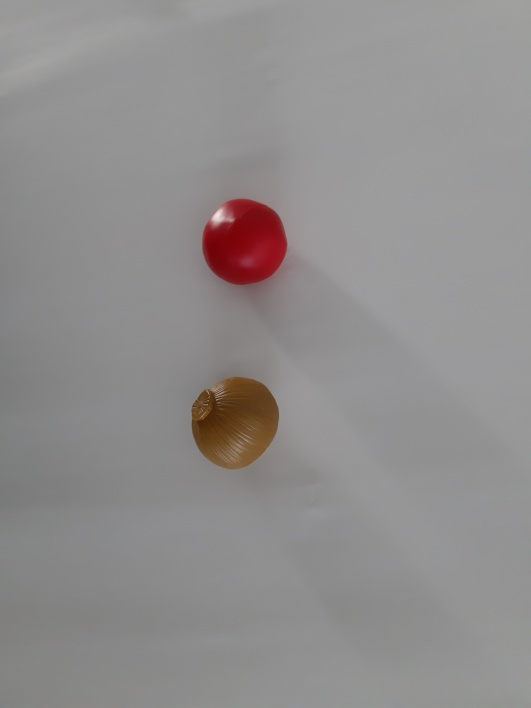onion: (171, 361, 301, 480)
tomato: (189, 190, 301, 296)
